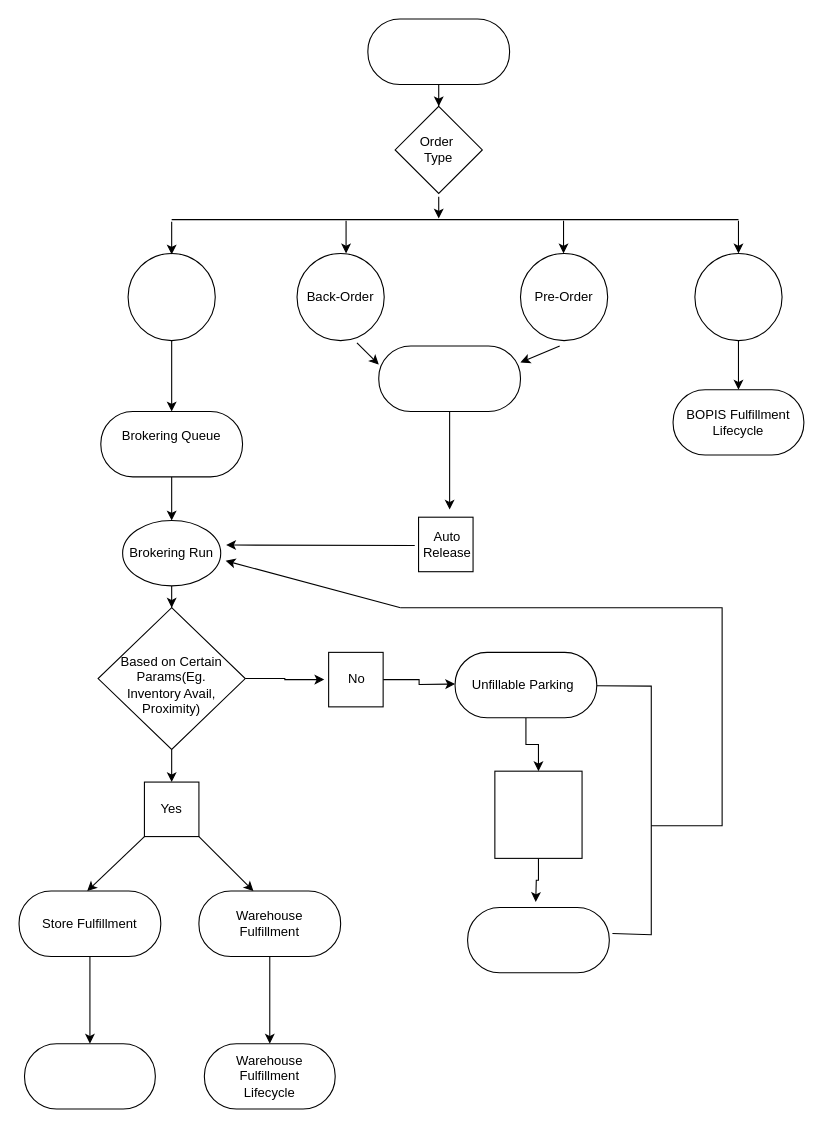
Some shapes in this 823 by 1128 pixel diagram are drawn without their labels. Here are the shapes that lost their labels. From the top down, the box of each, then its label:
(367, 18, 510, 84): Order Approved Succesfully
(127, 252, 215, 341): Standard Order
(694, 252, 782, 341): BOPIS
(378, 345, 520, 411): Parking
(494, 770, 582, 858): After Certain Condition (Auto Cancelation)
(467, 906, 609, 973): Unfillable Hold Parking
(23, 1043, 155, 1109): Store Fulfillment Lifecycle
